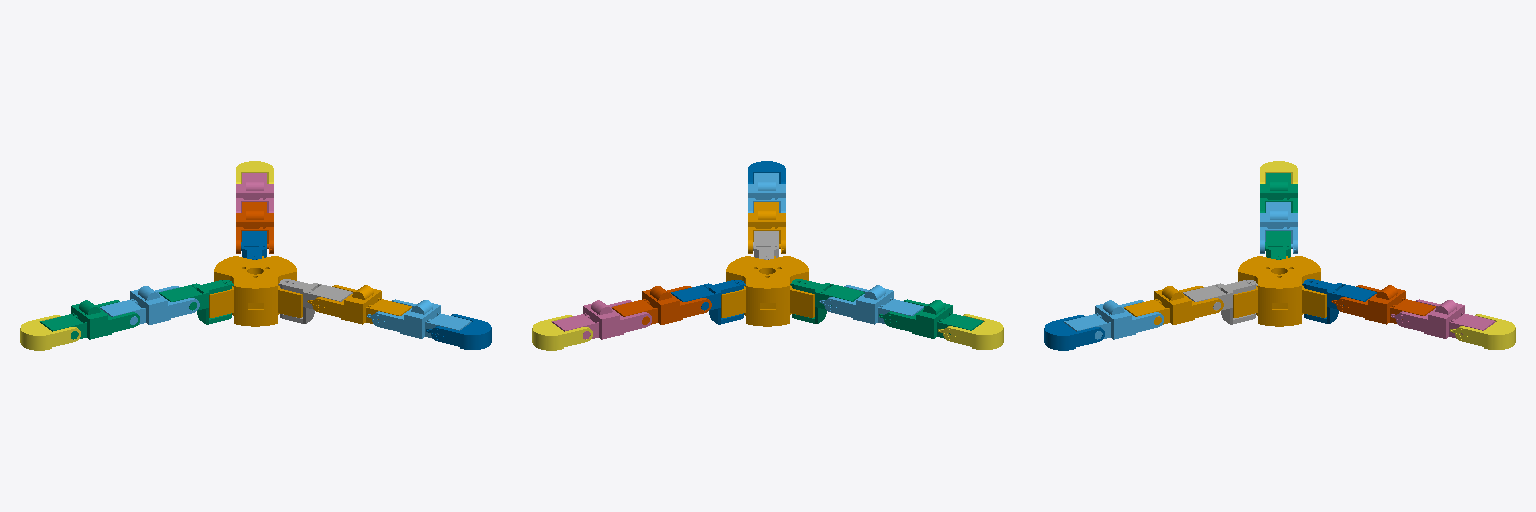
robot.urdf — URDF:
<?xml version="1.0" ?>
<robot name="URDF">

<material name="silver">
  <color rgba="0.700 0.700 0.700 1.000"/>
</material>

<link name="base_link">
  <inertial>
    <origin xyz="0.21027456882143253 -0.05192508200472862 -0.012773728032096934" rpy="0 0 0"/>
    <mass value="1.9655379639555184"/>
    <inertia ixx="0.0018963137482149338" iyy="0.0018963122502908686" izz="0.0028974250733311002" ixy="2.97347096250844e-09" iyz="-1.1226336227819489e-09" ixz="1.0024498965297002e-09"/>
  </inertial>
  <visual>
    <origin xyz="0 0 0" rpy="0 0 0"/>
    <geometry>
      <mesh filename="meshes/base_link.stl" scale="0.001 0.001 0.001"/>
    </geometry>
    <material name="silver"/>
    <material/>
  </visual>
  <collision>
    <origin xyz="0 0 0" rpy="0 0 0"/>
    <geometry>
      <mesh filename="meshes/base_link.stl" scale="0.001 0.001 0.001"/>
    </geometry>
  </collision>
</link>

<link name="finger_link121">
  <inertial>
    <origin xyz="-0.05799669988999707 -3.608783178993963e-05 0.00121438102061161" rpy="0 0 0"/>
    <mass value="0.5923964835612685"/>
    <inertia ixx="0.00012778634615537884" iyy="0.00043862033204555406" izz="0.0004967041029092702" ixy="-5.718019806204462e-06" iyz="-1.4276741059989656e-08" ixz="-1.5406061529800197e-05"/>
  </inertial>
  <visual>
    <origin xyz="-0.109825 0.052925 -0.0" rpy="0 0 0"/>
    <geometry>
      <mesh filename="meshes/finger_link121.stl" scale="0.001 0.001 0.001"/>
    </geometry>
    <material name="silver"/>
    <material/>
  </visual>
  <collision>
    <origin xyz="-0.109825 0.052925 -0.0" rpy="0 0 0"/>
    <geometry>
      <mesh filename="meshes/finger_link121.stl" scale="0.001 0.001 0.001"/>
    </geometry>
  </collision>
</link>

<link name="finger_link131">
  <inertial>
    <origin xyz="-0.057765004769379735 -3.624675652125903e-05 0.001263088670960852" rpy="0 0 0"/>
    <mass value="0.5898232192882595"/>
    <inertia ixx="0.0001272612390084474" iyy="0.00043101250428518364" izz="0.0004892171629736469" ixy="-5.722969316268307e-06" iyz="-1.531801231857184e-08" ixz="-1.3874799189148414e-05"/>
  </inertial>
  <visual>
    <origin xyz="-0.02709 0.052925 -0.0" rpy="0 0 0"/>
    <geometry>
      <mesh filename="meshes/finger_link131.stl" scale="0.001 0.001 0.001"/>
    </geometry>
    <material name="silver"/>
    <material/>
  </visual>
  <collision>
    <origin xyz="-0.02709 0.052925 -0.0" rpy="0 0 0"/>
    <geometry>
      <mesh filename="meshes/finger_link131.stl" scale="0.001 0.001 0.001"/>
    </geometry>
  </collision>
</link>

<link name="finger1_ef1">
  <inertial>
    <origin xyz="-0.03483021585233799 0.00019839455909273496 -0.0006880018002984952" rpy="0 0 0"/>
    <mass value="0.23659461522625636"/>
    <inertia ixx="5.455432759857246e-05" iyy="6.20551156285949e-05" izz="0.00010170804414663193" ixy="-1.8753096483758742e-06" iyz="-3.2902451898018223e-08" ixz="-1.341950598108509e-06"/>
  </inertial>
  <visual>
    <origin xyz="0.055645 0.052925 -0.0" rpy="0 0 0"/>
    <geometry>
      <mesh filename="meshes/finger1_ef1.stl" scale="0.001 0.001 0.001"/>
    </geometry>
    <material name="silver"/>
    <material/>
  </visual>
  <collision>
    <origin xyz="0.055645 0.052925 -0.0" rpy="0 0 0"/>
    <geometry>
      <mesh filename="meshes/finger1_ef1.stl" scale="0.001 0.001 0.001"/>
    </geometry>
  </collision>
</link>

<link name="finger_link211">
  <inertial>
    <origin xyz="0.023503468036998793 0.041176003842312334 0.009232693983073387" rpy="0 0 0"/>
    <mass value="0.33961269438037617"/>
    <inertia ixx="0.00017739336089992992" iyy="0.00010410023030453172" izz="0.00019147396755265014" ixy="-6.088100651440234e-05" iyz="-2.6927699237658262e-05" ixz="-1.5050892191462324e-05"/>
  </inertial>
  <visual>
    <origin xyz="-0.231021 0.013991 0.01388" rpy="0 0 0"/>
    <geometry>
      <mesh filename="meshes/finger_link211.stl" scale="0.001 0.001 0.001"/>
    </geometry>
    <material name="silver"/>
    <material/>
  </visual>
  <collision>
    <origin xyz="-0.231021 0.013991 0.01388" rpy="0 0 0"/>
    <geometry>
      <mesh filename="meshes/finger_link211.stl" scale="0.001 0.001 0.001"/>
    </geometry>
  </collision>
</link>

<link name="finger_link221">
  <inertial>
    <origin xyz="0.028967318371381445 0.05024448235772763 0.001214381020611615" rpy="0 0 0"/>
    <mass value="0.5923964835612682"/>
    <inertia ixx="0.00036586378598452585" iyy="0.00020054289221640986" izz="0.0004967041029092789" ixy="-0.00013173605416713294" iyz="1.3349179027603144e-05" ixz="7.690666744458827e-06"/>
  </inertial>
  <visual>
    <origin xyz="-0.259633 -0.035567 -0.0" rpy="0 0 0"/>
    <geometry>
      <mesh filename="meshes/finger_link221.stl" scale="0.001 0.001 0.001"/>
    </geometry>
    <material name="silver"/>
    <material/>
  </visual>
  <collision>
    <origin xyz="-0.259633 -0.035567 -0.0" rpy="0 0 0"/>
    <geometry>
      <mesh filename="meshes/finger_link221.stl" scale="0.001 0.001 0.001"/>
    </geometry>
  </collision>
</link>

<link name="finger_link231">
  <inertial>
    <origin xyz="0.028850833470314197 0.05004351993008056 0.0012630886701467106" rpy="0 0 0"/>
    <mass value="0.5898232250623396"/>
    <inertia ixx="0.00036003092658365085" iyy="0.00019824282348428202" izz="0.0004892171698338693" ixy="-0.00012866667432076886" iyz="1.2023587657172087e-05" ixz="6.92413388056747e-06"/>
  </inertial>
  <visual>
    <origin xyz="-0.301001 -0.107218 -0.0" rpy="0 0 0"/>
    <geometry>
      <mesh filename="meshes/finger_link231.stl" scale="0.001 0.001 0.001"/>
    </geometry>
    <material name="silver"/>
    <material/>
  </visual>
  <collision>
    <origin xyz="-0.301001 -0.107218 -0.0" rpy="0 0 0"/>
    <geometry>
      <mesh filename="meshes/finger_link231.stl" scale="0.001 0.001 0.001"/>
    </geometry>
  </collision>
</link>

<link name="finger_link311">
  <inertial>
    <origin xyz="0.023907785811692617 -0.04094259415385859 0.009232693983073387" rpy="0 0 0"/>
    <mass value="0.33961269438037617"/>
    <inertia ixx="0.00017514801120281295" iyy="0.00010634558000168284" izz="0.0001914739675526675" ixy="6.217735976646668e-05" iyz="2.64983046062569e-05" ixz="-1.579462550954587e-05"/>
  </inertial>
  <visual>
    <origin xyz="-0.232753 0.088859 0.01388" rpy="0 0 0"/>
    <geometry>
      <mesh filename="meshes/finger_link311.stl" scale="0.001 0.001 0.001"/>
    </geometry>
    <material name="silver"/>
    <material/>
  </visual>
  <collision>
    <origin xyz="-0.232753 0.088859 0.01388" rpy="0 0 0"/>
    <geometry>
      <mesh filename="meshes/finger_link311.stl" scale="0.001 0.001 0.001"/>
    </geometry>
  </collision>
</link>

<link name="finger_link321">
  <inertial>
    <origin xyz="0.029029880373273143 -0.050208385456697924 0.0012143810206116199" rpy="0 0 0"/>
    <mass value="0.592396483561268"/>
    <inertia ixx="0.0003559598851614887" iyy="0.00021044679303942188" izz="0.0004967041029092512" ixy="0.00013745407397333653" iyz="-1.3334902286543242e-05" ixz="7.71539478534118e-06"/>
  </inertial>
  <visual>
    <origin xyz="-0.261365 0.138417 -0.0" rpy="0 0 0"/>
    <geometry>
      <mesh filename="meshes/finger_link321.stl" scale="0.001 0.001 0.001"/>
    </geometry>
    <material name="silver"/>
    <material/>
  </visual>
  <collision>
    <origin xyz="-0.261365 0.138417 -0.0" rpy="0 0 0"/>
    <geometry>
      <mesh filename="meshes/finger_link321.stl" scale="0.001 0.001 0.001"/>
    </geometry>
  </collision>
</link>

<link name="finger_link331">
  <inertial>
    <origin xyz="0.028913670476505338 -0.05000726394684843 0.0012630886709608779" rpy="0 0 0"/>
    <mass value="0.5898232192882596"/>
    <inertia ixx="0.0003501184522841441" iyy="0.00020815529240100772" izz="0.000489217164364994" ixy="0.0001343896412862866" iyz="-1.2008269609518587e-05" ixz="6.9506654285157894e-06"/>
  </inertial>
  <visual>
    <origin xyz="-0.302733 0.210068 -0.0" rpy="0 0 0"/>
    <geometry>
      <mesh filename="meshes/finger_link331.stl" scale="0.001 0.001 0.001"/>
    </geometry>
    <material name="silver"/>
    <material/>
  </visual>
  <collision>
    <origin xyz="-0.302733 0.210068 -0.0" rpy="0 0 0"/>
    <geometry>
      <mesh filename="meshes/finger_link331.stl" scale="0.001 0.001 0.001"/>
    </geometry>
  </collision>
</link>

<link name="finger_link111">
  <inertial>
    <origin xyz="-0.047410754994033424 -0.0002334006192142024 0.00923269398307338" rpy="0 0 0"/>
    <mass value="0.3396126943803763"/>
    <inertia ixx="6.969901470393685e-05" iyy="0.00021179457650051525" izz="0.0001914739675526406" ixy="-1.296353252055668e-06" iyz="4.2939463140188937e-07" ixz="3.084551770101015e-05"/>
  </inertial>
  <visual>
    <origin xyz="-0.167049 0.052925 0.01388" rpy="0 0 0"/>
    <geometry>
      <mesh filename="meshes/finger_link111.stl" scale="0.001 0.001 0.001"/>
    </geometry>
    <material name="silver"/>
    <material/>
  </visual>
  <collision>
    <origin xyz="-0.167049 0.052925 0.01388" rpy="0 0 0"/>
    <geometry>
      <mesh filename="meshes/finger_link111.stl" scale="0.001 0.001 0.001"/>
    </geometry>
  </collision>
</link>

<link name="finger2_ef1">
  <inertial>
    <origin xyz="0.017587144023619605 0.030064701054404258 -0.0006880018002984862" rpy="0 0 0"/>
    <mass value="0.23659461522625652"/>
    <inertia ixx="6.180398441654571e-05" iyy="5.480545881063337e-05" izz="0.0001017080441466367" ixy="-2.310281667011055e-06" iyz="1.178614534535199e-06" ixz="6.424809398637515e-07"/>
  </inertial>
  <visual>
    <origin xyz="-0.342368 -0.178868 -0.0" rpy="0 0 0"/>
    <geometry>
      <mesh filename="meshes/finger2_ef1.stl" scale="0.001 0.001 0.001"/>
    </geometry>
    <material name="silver"/>
    <material/>
  </visual>
  <collision>
    <origin xyz="-0.342368 -0.178868 -0.0" rpy="0 0 0"/>
    <geometry>
      <mesh filename="meshes/finger2_ef1.stl" scale="0.001 0.001 0.001"/>
    </geometry>
  </collision>
</link>

<link name="finger3_ef1">
  <inertial>
    <origin xyz="0.017243570863941238 -0.03026308681523182 -0.0006880018002984972" rpy="0 0 0"/>
    <mass value="0.23659461522625608"/>
    <inertia ixx="5.855585392226456e-05" iyy="5.805359078007999e-05" izz="0.00010170804562179697" ixy="4.185591959800922e-06" iyz="-1.1457120958078266e-06" ixz="6.994696658498597e-07"/>
  </inertial>
  <visual>
    <origin xyz="-0.3441 0.281718 -0.0" rpy="0 0 0"/>
    <geometry>
      <mesh filename="meshes/finger3_ef1.stl" scale="0.001 0.001 0.001"/>
    </geometry>
    <material name="silver"/>
    <material/>
  </visual>
  <collision>
    <origin xyz="-0.3441 0.281718 -0.0" rpy="0 0 0"/>
    <geometry>
      <mesh filename="meshes/finger3_ef1.stl" scale="0.001 0.001 0.001"/>
    </geometry>
  </collision>
</link>

<joint name="finger1_joint1" type="revolute">
  <origin xyz="-0.057224 0.0 0.01388" rpy="0 0 0"/>
  <parent link="finger_link111"/>
  <child link="finger_link121"/>
  <axis xyz="0.0 1.0 -0.0"/>
  <limit upper="1.570796" lower="0.0" effort="100" velocity="100"/>
</joint>
<transmission name="finger1_joint1_tran">
  <type>transmission_interface/SimpleTransmission</type>
  <joint name="finger1_joint1">
    <hardwareInterface>PositionJointInterface</hardwareInterface>
  </joint>
  <actuator name="finger1_joint1_actr">
    <hardwareInterface>PositionJointInterface</hardwareInterface>
    <mechanicalReduction>1</mechanicalReduction>
  </actuator>
</transmission>

<joint name="finger1_joint2" type="revolute">
  <origin xyz="-0.082735 0.0 0.0" rpy="0 0 0"/>
  <parent link="finger_link121"/>
  <child link="finger_link131"/>
  <axis xyz="0.0 1.0 -0.0"/>
  <limit upper="1.570796" lower="0.0" effort="100" velocity="100"/>
</joint>
<transmission name="finger1_joint2_tran">
  <type>transmission_interface/SimpleTransmission</type>
  <joint name="finger1_joint2">
    <hardwareInterface>PositionJointInterface</hardwareInterface>
  </joint>
  <actuator name="finger1_joint2_actr">
    <hardwareInterface>PositionJointInterface</hardwareInterface>
    <mechanicalReduction>1</mechanicalReduction>
  </actuator>
</transmission>

<joint name="finger1_joint3" type="revolute">
  <origin xyz="-0.082735 0.0 0.0" rpy="0 0 0"/>
  <parent link="finger_link131"/>
  <child link="finger1_ef1"/>
  <axis xyz="-0.0 1.0 -0.0"/>
  <limit upper="1.570796" lower="-1.570796" effort="100" velocity="100"/>
</joint>
<transmission name="finger1_joint3_tran">
  <type>transmission_interface/SimpleTransmission</type>
  <joint name="finger1_joint3">
    <hardwareInterface>PositionJointInterface</hardwareInterface>
  </joint>
  <actuator name="finger1_joint3_actr">
    <hardwareInterface>PositionJointInterface</hardwareInterface>
    <mechanicalReduction>1</mechanicalReduction>
  </actuator>
</transmission>

<joint name="finger2_palm" type="revolute">
  <origin xyz="0.231021 -0.013991 -0.01388" rpy="0 0 0"/>
  <parent link="base_link"/>
  <child link="finger_link211"/>
  <axis xyz="0.0 -0.0 1.0"/>
  <limit upper="1.047198" lower="-1.047198" effort="100" velocity="100"/>
</joint>
<transmission name="finger2_palm_tran">
  <type>transmission_interface/SimpleTransmission</type>
  <joint name="finger2_palm">
    <hardwareInterface>PositionJointInterface</hardwareInterface>
  </joint>
  <actuator name="finger2_palm_actr">
    <hardwareInterface>PositionJointInterface</hardwareInterface>
    <mechanicalReduction>1</mechanicalReduction>
  </actuator>
</transmission>

<joint name="finger2_joint1" type="revolute">
  <origin xyz="0.028612 0.049558 0.01388" rpy="0 0 0"/>
  <parent link="finger_link211"/>
  <child link="finger_link221"/>
  <axis xyz="0.866025 -0.5 -0.0"/>
  <limit upper="1.570796" lower="0.0" effort="100" velocity="100"/>
</joint>
<transmission name="finger2_joint1_tran">
  <type>transmission_interface/SimpleTransmission</type>
  <joint name="finger2_joint1">
    <hardwareInterface>PositionJointInterface</hardwareInterface>
  </joint>
  <actuator name="finger2_joint1_actr">
    <hardwareInterface>PositionJointInterface</hardwareInterface>
    <mechanicalReduction>1</mechanicalReduction>
  </actuator>
</transmission>

<joint name="finger2_joint2" type="revolute">
  <origin xyz="0.041368 0.071651 0.0" rpy="0 0 0"/>
  <parent link="finger_link221"/>
  <child link="finger_link231"/>
  <axis xyz="0.866025 -0.5 -0.0"/>
  <limit upper="1.570796" lower="0.0" effort="100" velocity="100"/>
</joint>
<transmission name="finger2_joint2_tran">
  <type>transmission_interface/SimpleTransmission</type>
  <joint name="finger2_joint2">
    <hardwareInterface>PositionJointInterface</hardwareInterface>
  </joint>
  <actuator name="finger2_joint2_actr">
    <hardwareInterface>PositionJointInterface</hardwareInterface>
    <mechanicalReduction>1</mechanicalReduction>
  </actuator>
</transmission>

<joint name="finger3_palm" type="revolute">
  <origin xyz="0.232753 -0.088859 -0.01388" rpy="0 0 0"/>
  <parent link="base_link"/>
  <child link="finger_link311"/>
  <axis xyz="-0.0 0.0 1.0"/>
  <limit upper="1.047198" lower="-1.047198" effort="100" velocity="100"/>
</joint>
<transmission name="finger3_palm_tran">
  <type>transmission_interface/SimpleTransmission</type>
  <joint name="finger3_palm">
    <hardwareInterface>PositionJointInterface</hardwareInterface>
  </joint>
  <actuator name="finger3_palm_actr">
    <hardwareInterface>PositionJointInterface</hardwareInterface>
    <mechanicalReduction>1</mechanicalReduction>
  </actuator>
</transmission>

<joint name="finger3_joint1" type="revolute">
  <origin xyz="0.028612 -0.049558 0.01388" rpy="0 0 0"/>
  <parent link="finger_link311"/>
  <child link="finger_link321"/>
  <axis xyz="-0.866025 -0.5 -0.0"/>
  <limit upper="1.570796" lower="0.0" effort="100" velocity="100"/>
</joint>
<transmission name="finger3_joint1_tran">
  <type>transmission_interface/SimpleTransmission</type>
  <joint name="finger3_joint1">
    <hardwareInterface>PositionJointInterface</hardwareInterface>
  </joint>
  <actuator name="finger3_joint1_actr">
    <hardwareInterface>PositionJointInterface</hardwareInterface>
    <mechanicalReduction>1</mechanicalReduction>
  </actuator>
</transmission>

<joint name="finger3_joint2" type="revolute">
  <origin xyz="0.041368 -0.071651 0.0" rpy="0 0 0"/>
  <parent link="finger_link321"/>
  <child link="finger_link331"/>
  <axis xyz="-0.866025 -0.5 0.0"/>
  <limit upper="1.570796" lower="0.0" effort="100" velocity="100"/>
</joint>
<transmission name="finger3_joint2_tran">
  <type>transmission_interface/SimpleTransmission</type>
  <joint name="finger3_joint2">
    <hardwareInterface>PositionJointInterface</hardwareInterface>
  </joint>
  <actuator name="finger3_joint2_actr">
    <hardwareInterface>PositionJointInterface</hardwareInterface>
    <mechanicalReduction>1</mechanicalReduction>
  </actuator>
</transmission>

<joint name="finger1_palm" type="revolute">
  <origin xyz="0.167049 -0.052925 -0.01388" rpy="0 0 0"/>
  <parent link="base_link"/>
  <child link="finger_link111"/>
  <axis xyz="0.0 0.0 1.0"/>
  <limit upper="1.047198" lower="-1.047198" effort="100" velocity="100"/>
</joint>
<transmission name="finger1_palm_tran">
  <type>transmission_interface/SimpleTransmission</type>
  <joint name="finger1_palm">
    <hardwareInterface>PositionJointInterface</hardwareInterface>
  </joint>
  <actuator name="finger1_palm_actr">
    <hardwareInterface>PositionJointInterface</hardwareInterface>
    <mechanicalReduction>1</mechanicalReduction>
  </actuator>
</transmission>

<joint name="finger2_joint3" type="revolute">
  <origin xyz="0.041367 0.07165 0.0" rpy="0 0 0"/>
  <parent link="finger_link231"/>
  <child link="finger2_ef1"/>
  <axis xyz="0.866025 -0.5 -0.0"/>
  <limit upper="1.570796" lower="-1.570796" effort="100" velocity="100"/>
</joint>
<transmission name="finger2_joint3_tran">
  <type>transmission_interface/SimpleTransmission</type>
  <joint name="finger2_joint3">
    <hardwareInterface>PositionJointInterface</hardwareInterface>
  </joint>
  <actuator name="finger2_joint3_actr">
    <hardwareInterface>PositionJointInterface</hardwareInterface>
    <mechanicalReduction>1</mechanicalReduction>
  </actuator>
</transmission>

<joint name="finger3_joint3" type="revolute">
  <origin xyz="0.041367 -0.07165 0.0" rpy="0 0 0"/>
  <parent link="finger_link331"/>
  <child link="finger3_ef1"/>
  <axis xyz="-0.866025 -0.5 0.0"/>
  <limit upper="1.570796" lower="-1.570796" effort="100" velocity="100"/>
</joint>
<transmission name="finger3_joint3_tran">
  <type>transmission_interface/SimpleTransmission</type>
  <joint name="finger3_joint3">
    <hardwareInterface>PositionJointInterface</hardwareInterface>
  </joint>
  <actuator name="finger3_joint3_actr">
    <hardwareInterface>PositionJointInterface</hardwareInterface>
    <mechanicalReduction>1</mechanicalReduction>
  </actuator>
</transmission>

</robot>

--- Render facts (derived) ---
The picture shows the robot from 3 angles, left to right: view 1: azimuth 30°, elevation 25°; view 2: azimuth 150°, elevation 25°; view 3: azimuth 270°, elevation 25°; orthographic projection.
Model URDF with 13 links and 12 joints (12 revolute), rooted at base_link, posed all joints at 0.
Visible links, largest first — view 1: base_link, finger_link321, finger_link131, finger_link121, finger_link331, finger3_ef1, finger_link111, finger1_ef1, finger_link221, finger_link311, finger_link231, finger_link211 (+1 smaller); view 2: base_link, finger_link121, finger_link231, finger_link221, finger_link131, finger1_ef1, finger_link211, finger2_ef1, finger_link321, finger_link111, finger_link331, finger_link311 (+1 smaller); view 3: base_link, finger_link221, finger_link321, finger_link331, finger_link231, finger2_ef1, finger_link311, finger3_ef1, finger_link121, finger_link211, finger_link131, finger_link111 (+1 smaller).
Link boxes in pixels (x1=…): base_link: x1=209, y1=256, x2=302, y2=326; finger_link321: x1=307, y1=285, x2=411, y2=324; finger_link131: x1=40, y1=300, x2=139, y2=339; finger_link121: x1=100, y1=286, x2=199, y2=324; finger_link331: x1=367, y1=299, x2=471, y2=338; finger3_ef1: x1=426, y1=314, x2=491, y2=349; finger_link111: x1=159, y1=280, x2=233, y2=324; finger1_ef1: x1=20, y1=315, x2=80, y2=350; finger_link221: x1=236, y1=202, x2=273, y2=253; finger_link311: x1=278, y1=279, x2=352, y2=323; finger_link231: x1=236, y1=173, x2=273, y2=212; finger_link211: x1=241, y1=231, x2=266, y2=259; base_link: x1=721, y1=256, x2=814, y2=326; finger_link121: x1=819, y1=285, x2=923, y2=324; finger_link231: x1=552, y1=300, x2=651, y2=339; finger_link221: x1=612, y1=286, x2=711, y2=324; finger_link131: x1=879, y1=299, x2=983, y2=338; finger1_ef1: x1=938, y1=314, x2=1003, y2=349; finger_link211: x1=671, y1=280, x2=745, y2=324; finger2_ef1: x1=532, y1=315, x2=592, y2=350; finger_link321: x1=748, y1=202, x2=785, y2=253; finger_link111: x1=790, y1=279, x2=864, y2=323; finger_link331: x1=748, y1=173, x2=785, y2=212; finger_link311: x1=753, y1=231, x2=778, y2=259; base_link: x1=1233, y1=256, x2=1326, y2=326; finger_link221: x1=1331, y1=285, x2=1435, y2=324; finger_link321: x1=1124, y1=286, x2=1223, y2=324; finger_link331: x1=1064, y1=300, x2=1163, y2=339; finger_link231: x1=1391, y1=299, x2=1495, y2=338; finger2_ef1: x1=1450, y1=314, x2=1515, y2=349; finger_link311: x1=1183, y1=280, x2=1257, y2=324; finger3_ef1: x1=1044, y1=315, x2=1104, y2=350; finger_link121: x1=1260, y1=202, x2=1297, y2=253; finger_link211: x1=1302, y1=279, x2=1376, y2=323; finger_link131: x1=1260, y1=173, x2=1297, y2=212; finger_link111: x1=1265, y1=231, x2=1290, y2=259.
Size in the robot's own frame: 0.4994 by 0.5686 by 0.0617 metres.
Meshes: 13 distinct files referenced, 13 mesh visuals loaded (13 binary STL).